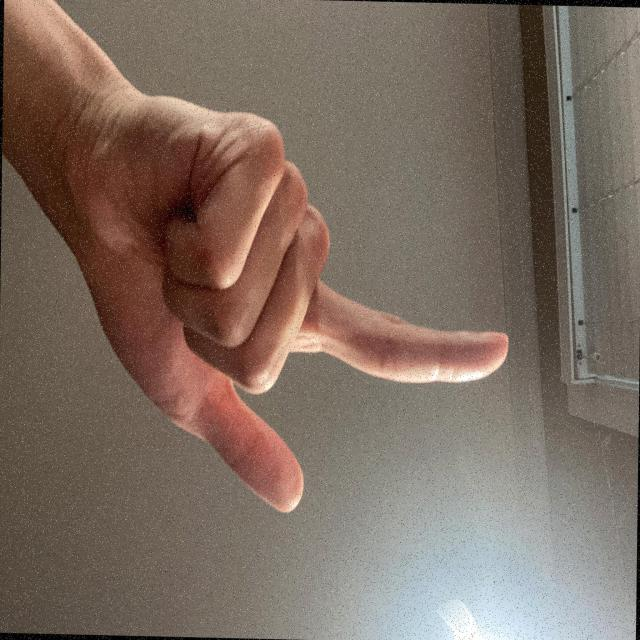L: (215, 163, 556, 640)
